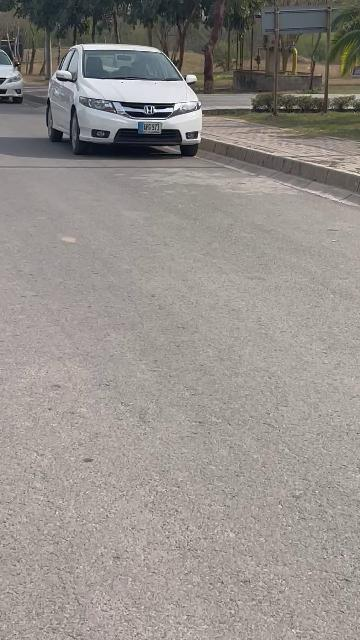plate: (138, 122, 161, 134)
